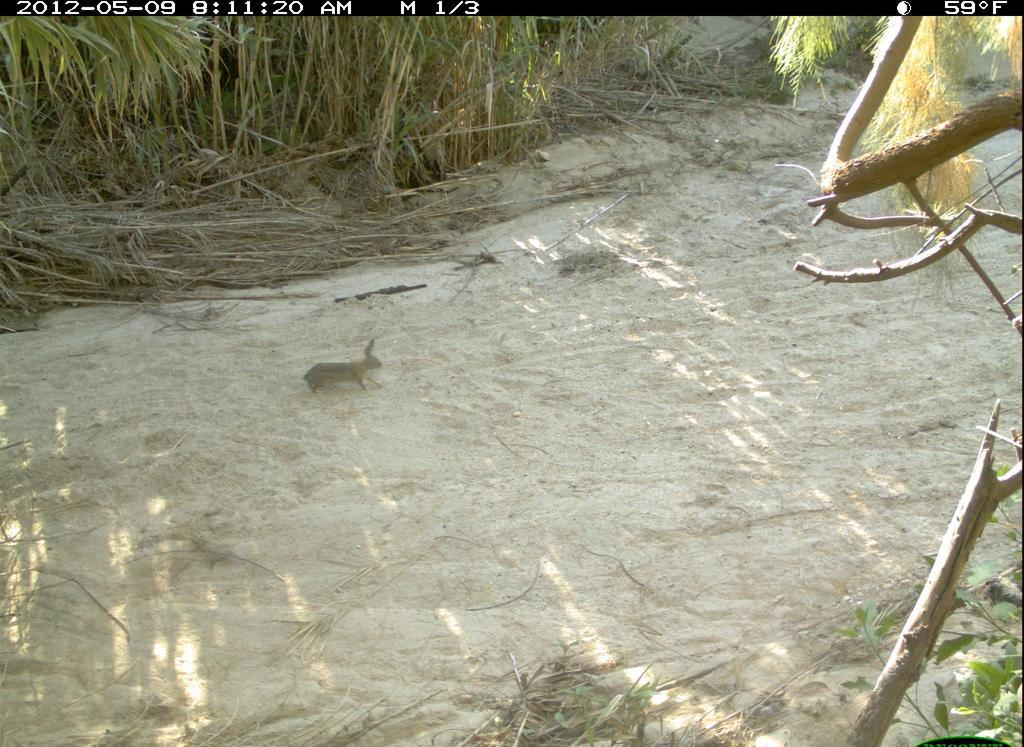rabbit: (297, 329, 395, 408)
